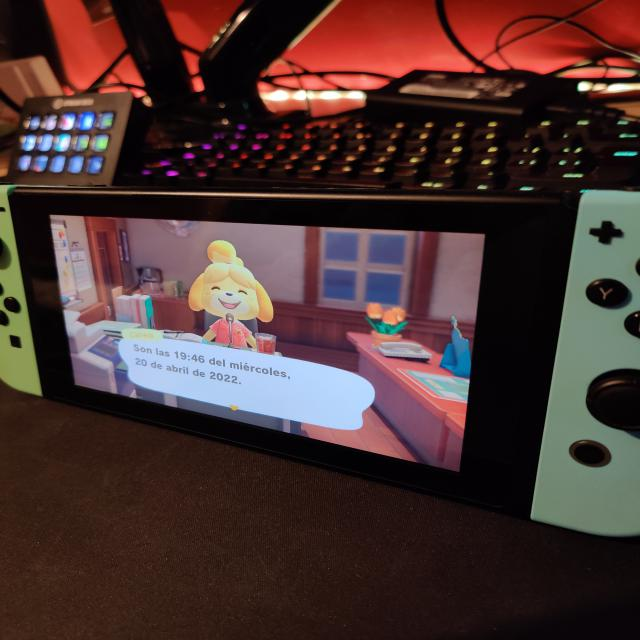text_bubble: (117, 327, 378, 433)
